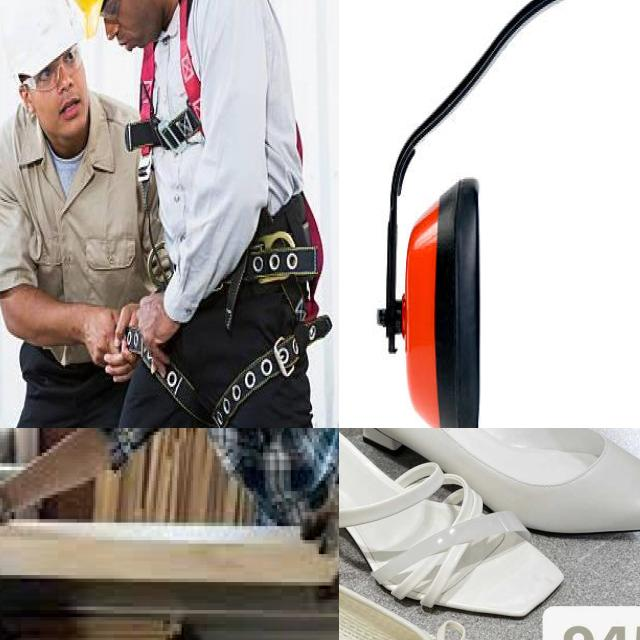Ear-protection: (339, 0, 640, 428)
Harness: (154, 194, 333, 428), (126, 0, 205, 152)
Sandals: (339, 428, 588, 627), (341, 428, 640, 551), (339, 492, 565, 640)
hand_glove: (300, 475, 339, 599)
person: (0, 428, 339, 640)
